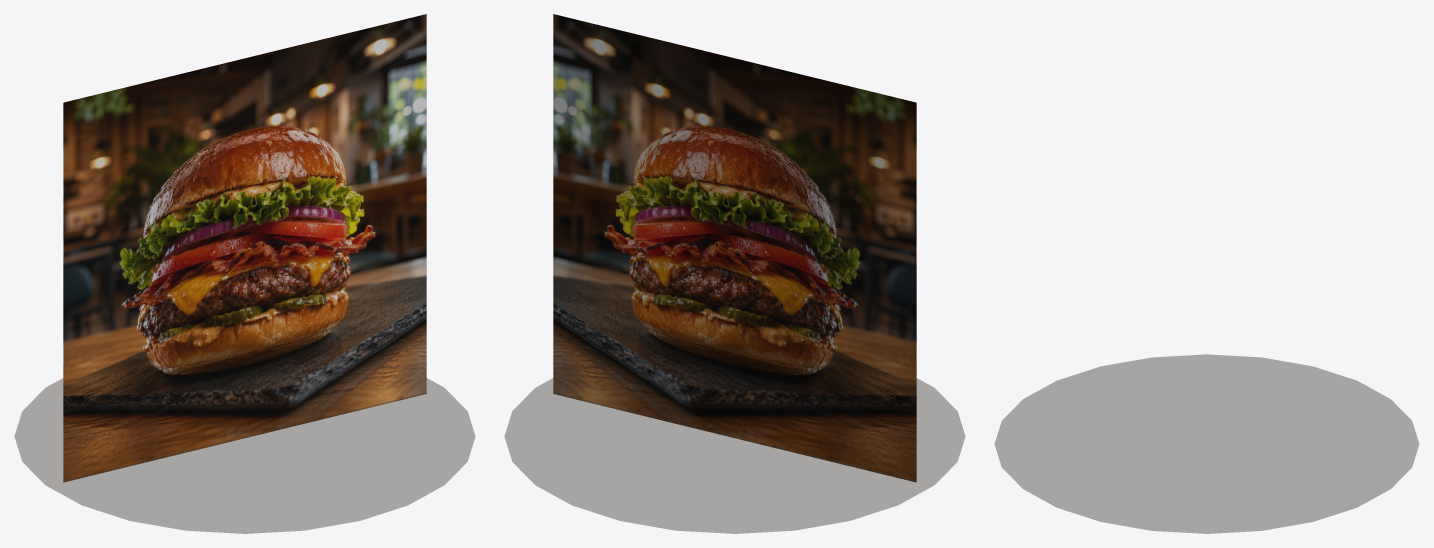
The model's file is signature-bacon-cheeseburger.glb.
3 renders of one model, left to right at view 1: azimuth 30°, elevation 25°; view 2: azimuth 150°, elevation 25°; view 3: azimuth 270°, elevation 25°, orthographic. The views are drawn at different scales.
Visible parts, largest first — view 1: ProductCard; view 2: ProductCard; view 3: ProductCard.
Boxes of the visible parts, x1,y1,x2,y2 form: ProductCard: (14,14,475,533); ProductCard: (504,14,965,533); ProductCard: (995,354,1418,533).
Size of the model in its own units: 0.286 by 0.26 by 0.286.
2 materials, 1 textured.
